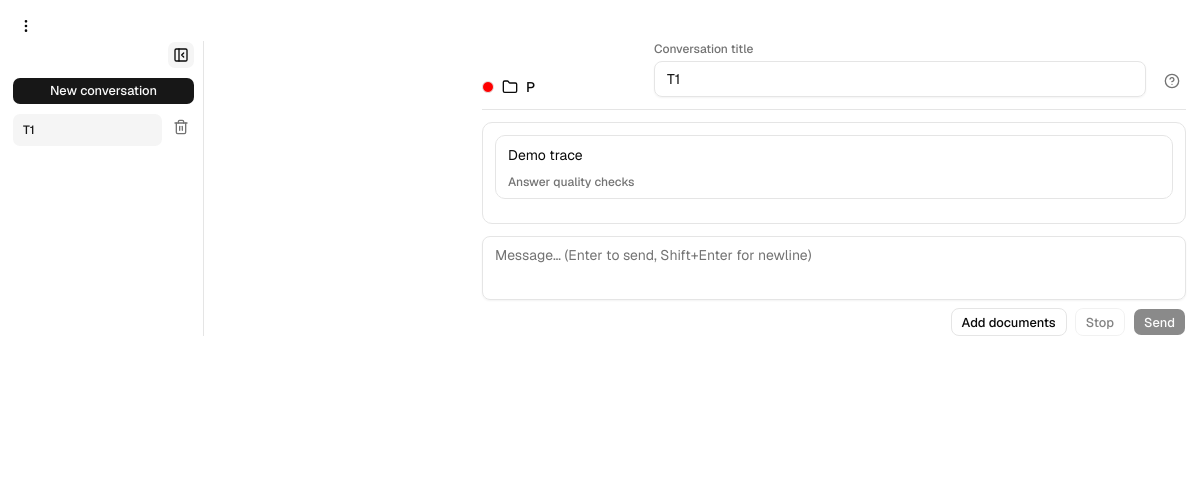
Test: ChatPage › shows trace metadata and i18n trace heading
The width and height of the screenshot is (1203, 483).
What coordinates should you click on to do the following:
click the button "T1"
I would click on:
 (88, 130)
Its box is [12, 113, 163, 147].
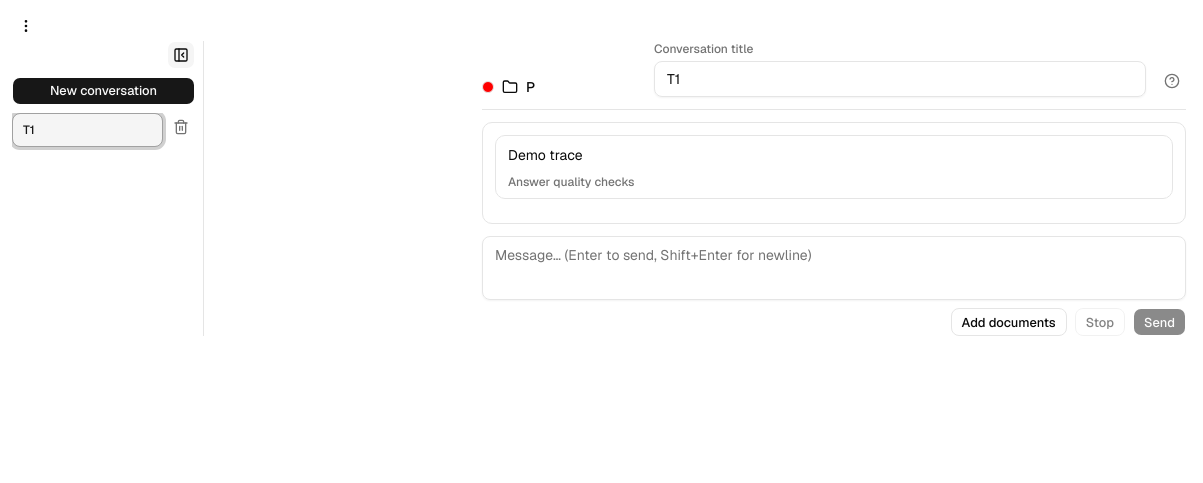
What coordinates should you click on to do the following:
click the heading with test id "chat-message-metadata-toggle"
I would click on:
 (571, 182)
Its box is [508, 174, 634, 190].
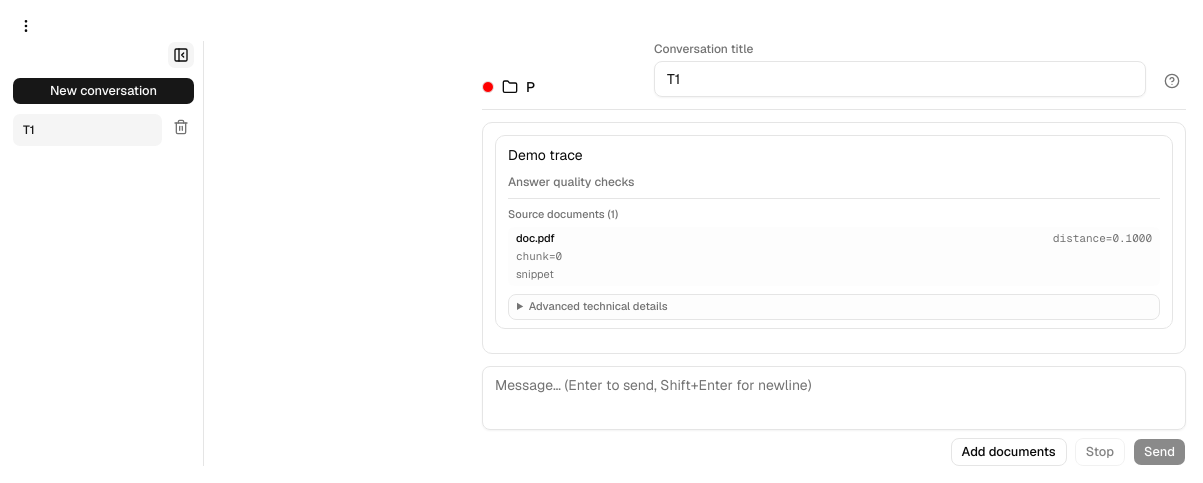
expect the element with test id "chat-trace-jaeger-not-run" is not shown: met
expect the element with test id "chat-message-metadata-panel" is shown: met, box [508, 198, 1160, 320]
expect the element with test id "chat-sources" shows "Source documents (1)": met, box [508, 207, 618, 221]
